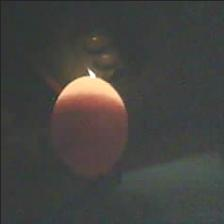fertile: (49, 74, 128, 176)
